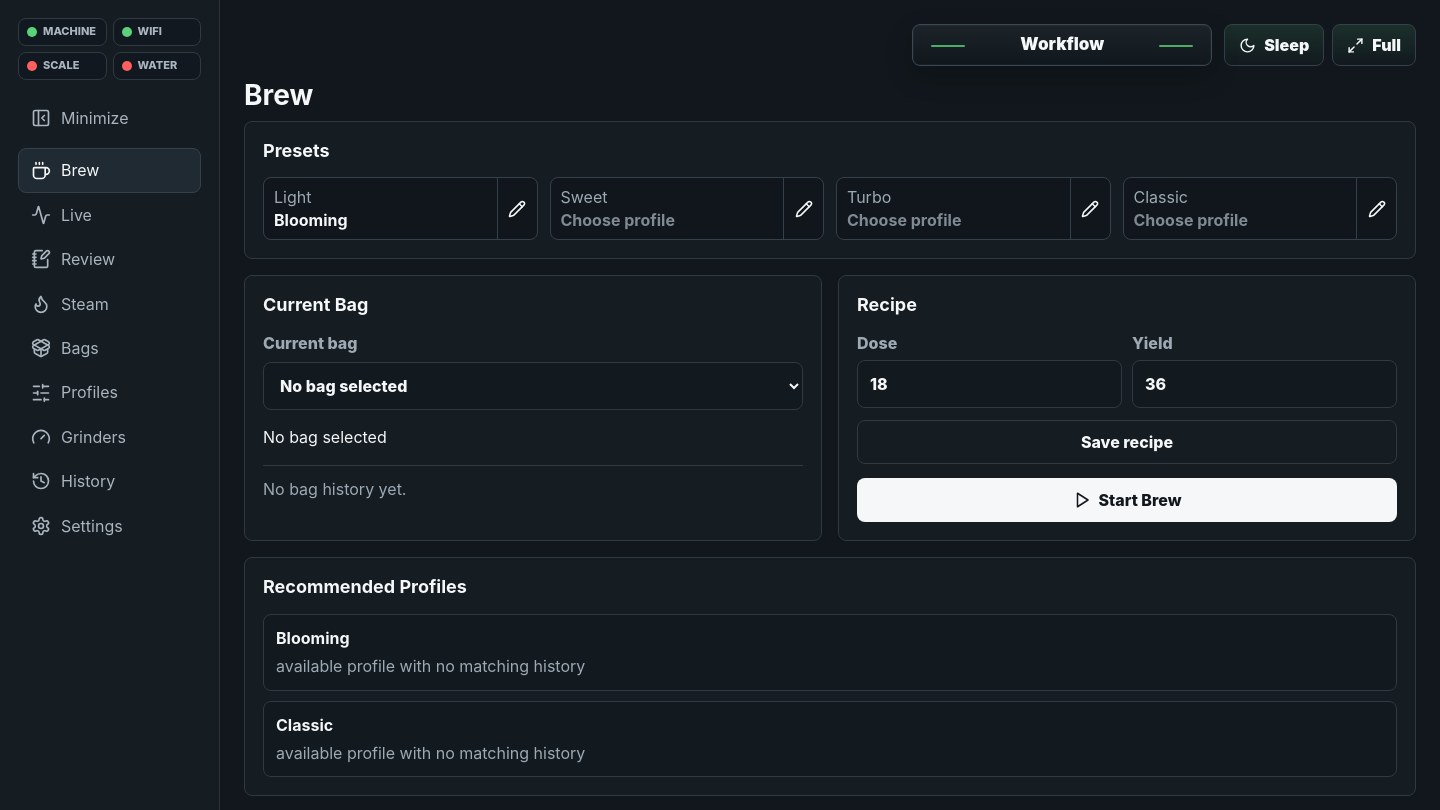
Test: App shell › starts on the brew page and switches navigation tabs
Expected: the heading "Brew" is shown, [244,78,313,112]
Expected: the button "Light Blooming" is shown, [264,178,496,239]
Step 1. Click the button "Bags" → (110, 348), box [18,326,201,370]
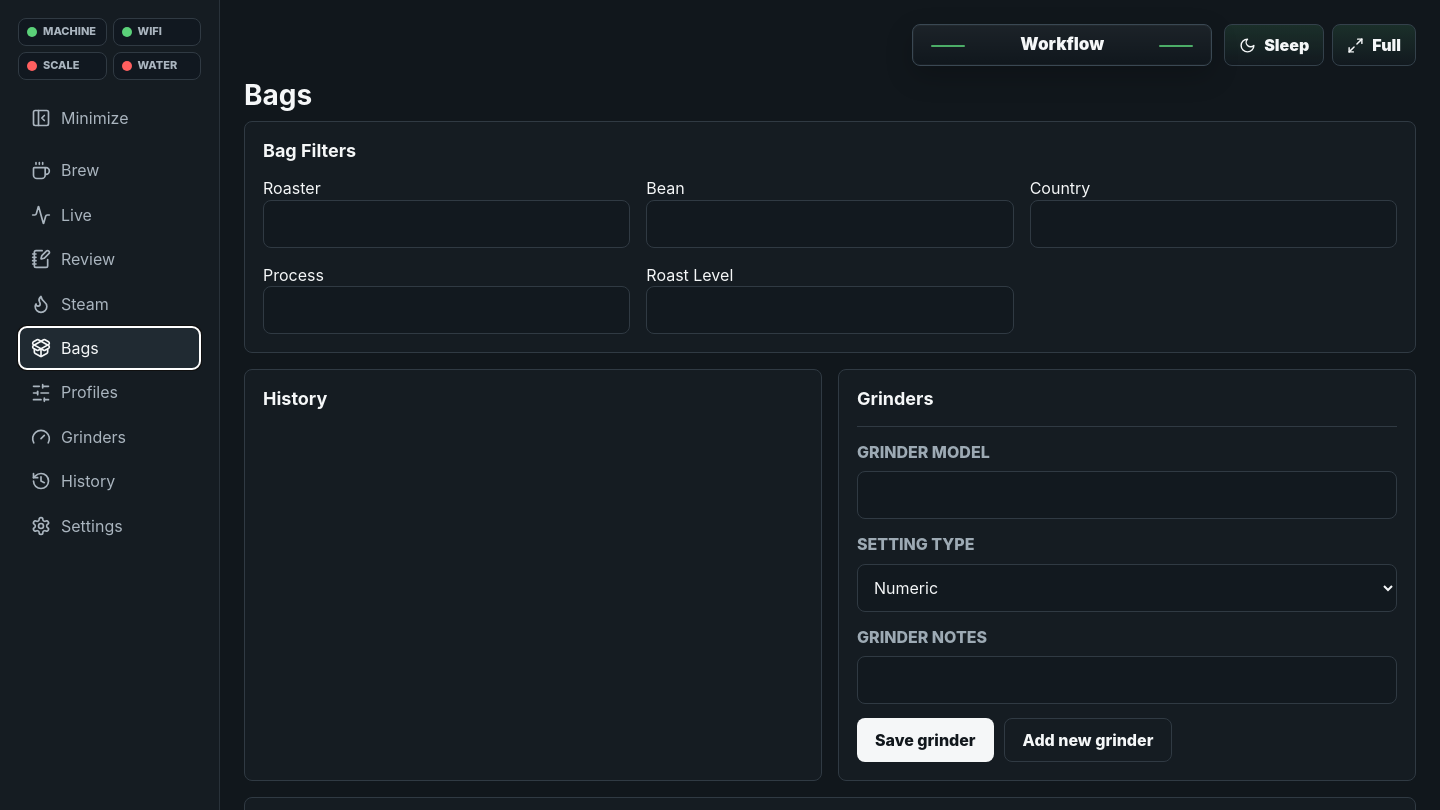
Now the heading "Bags" is shown, box [244,78,312,112]
Now the heading "Bag Filters" is shown, box [263,140,356,161]
